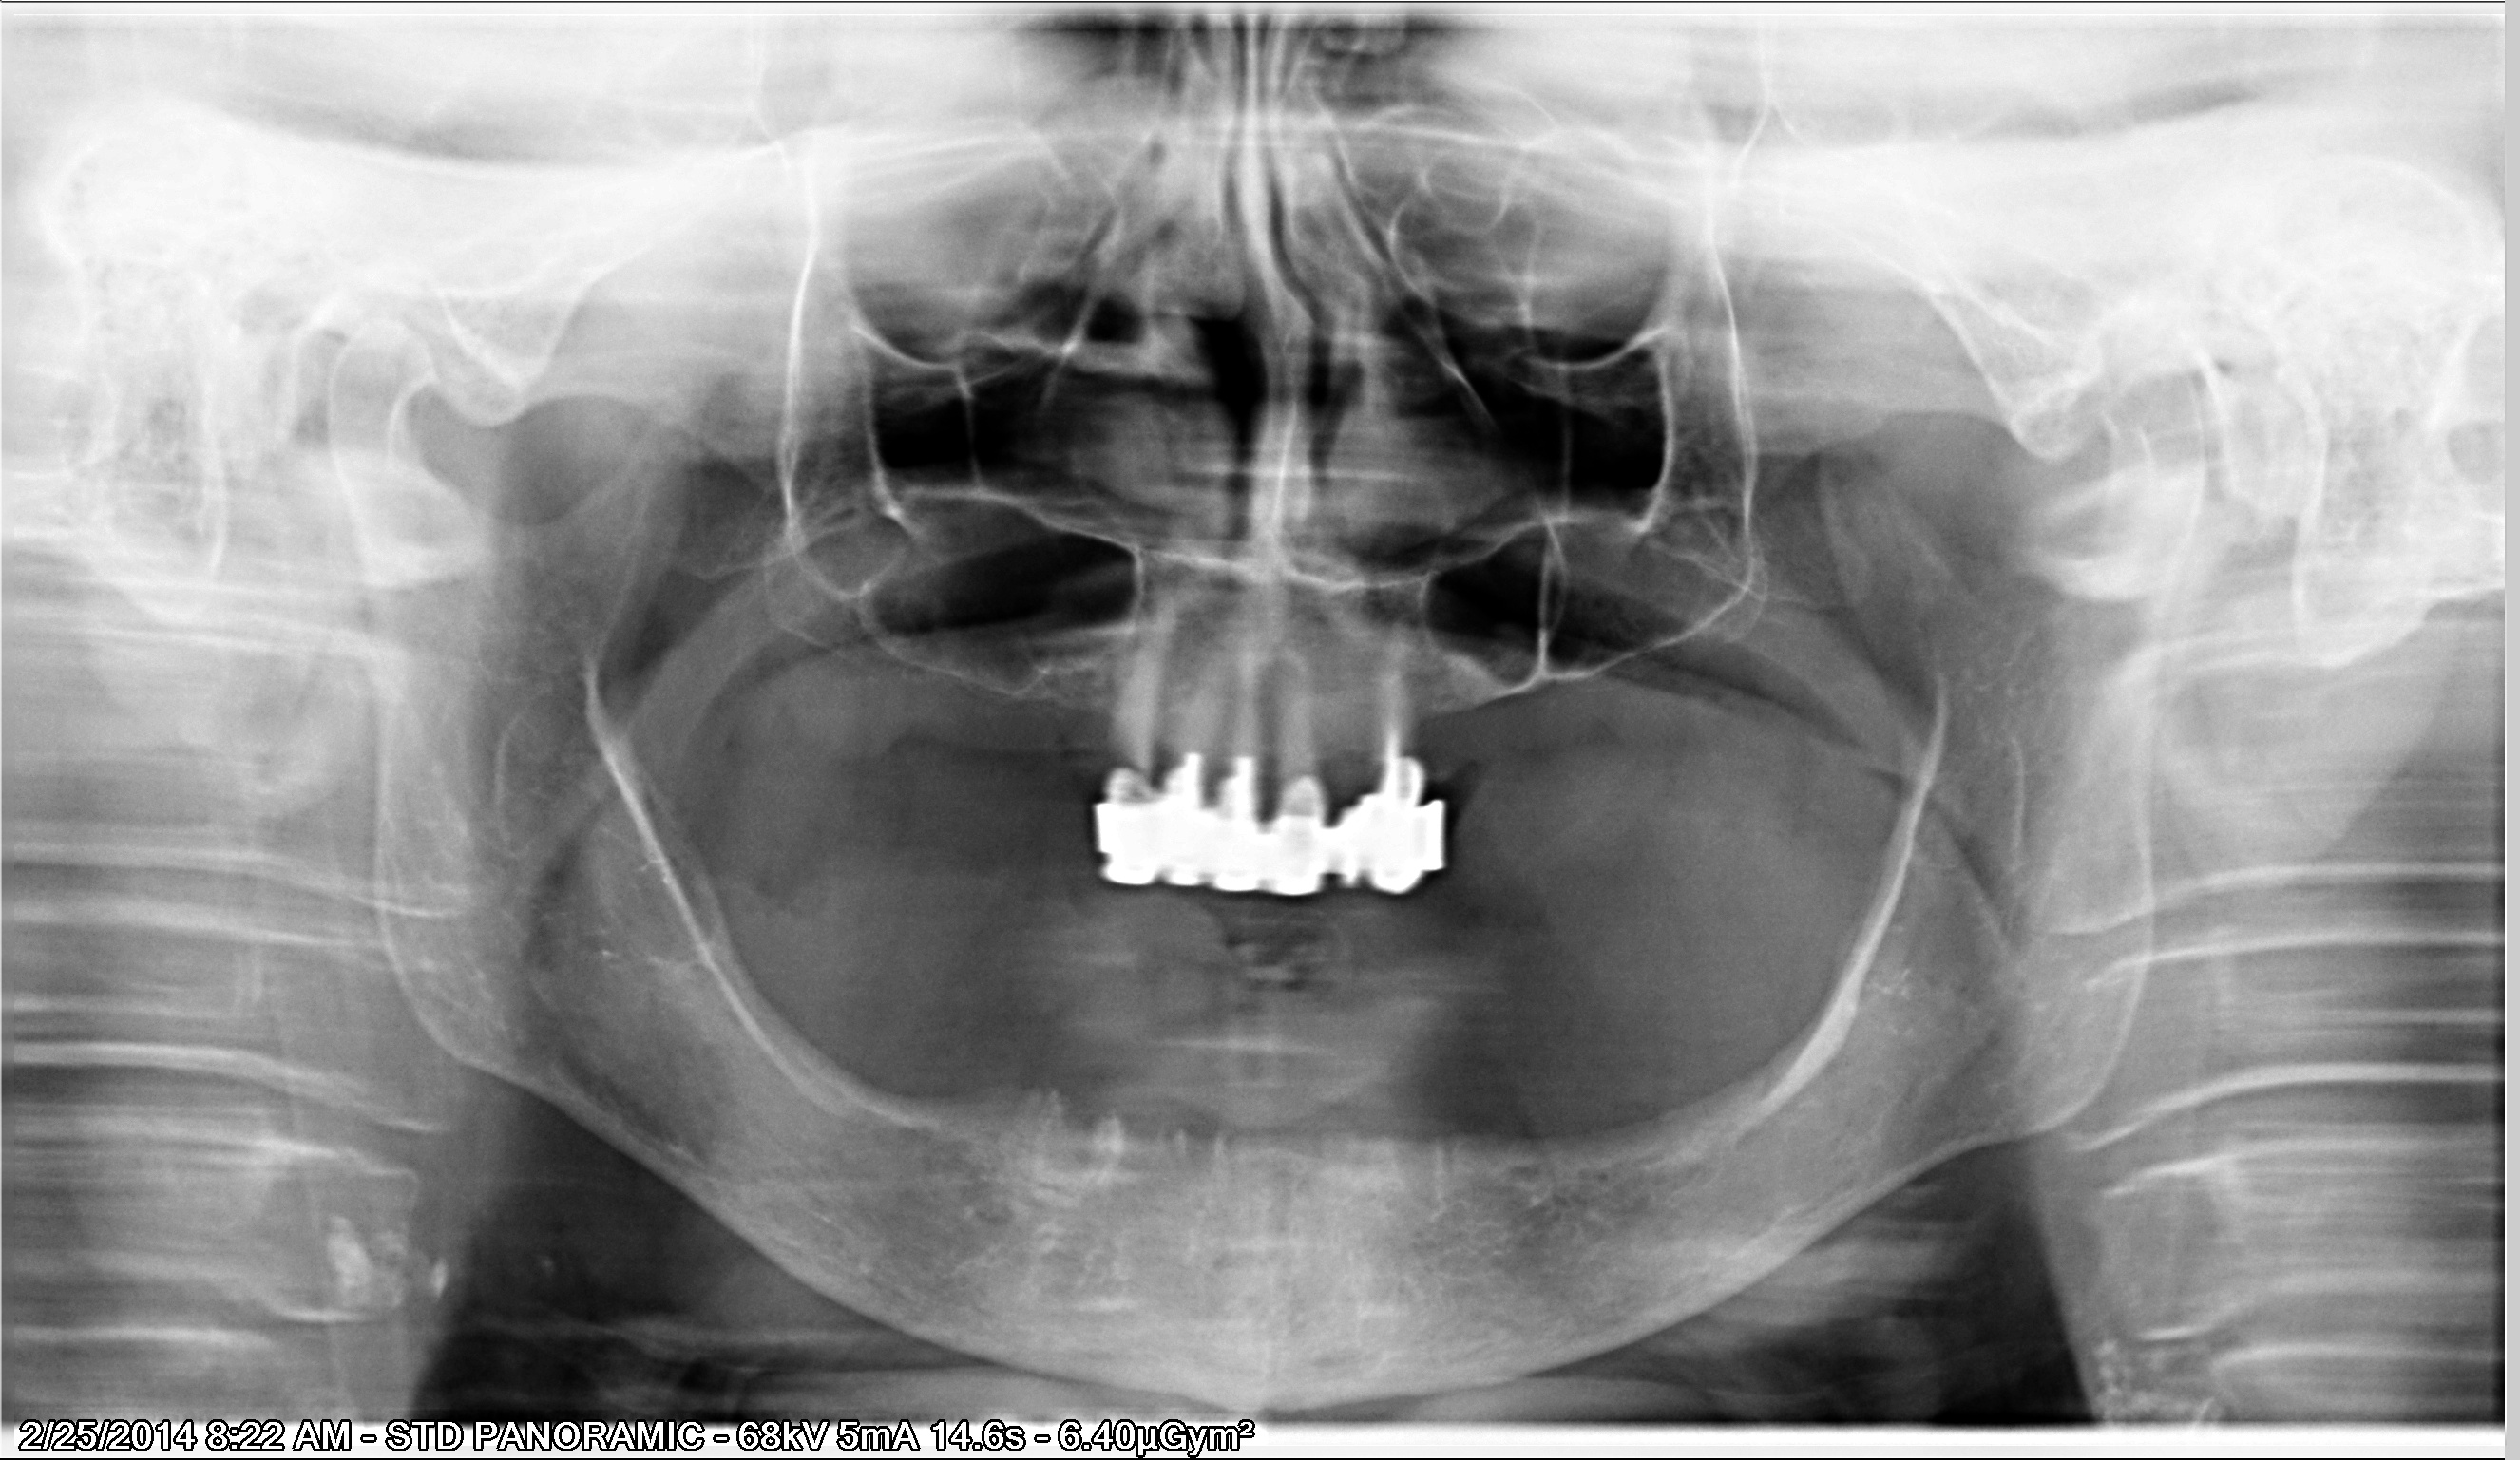PRR: (316, 262, 1811, 1180)
